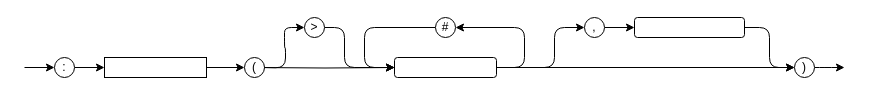
The diagram is 870 pixels wide and 95 high, and some of its shapes have lost their labels. Each missing label, with the centre of its shape:
"group" goes at point (155, 67).
"key expression" goes at point (445, 67).
"mapper expression" goes at point (689, 27).
